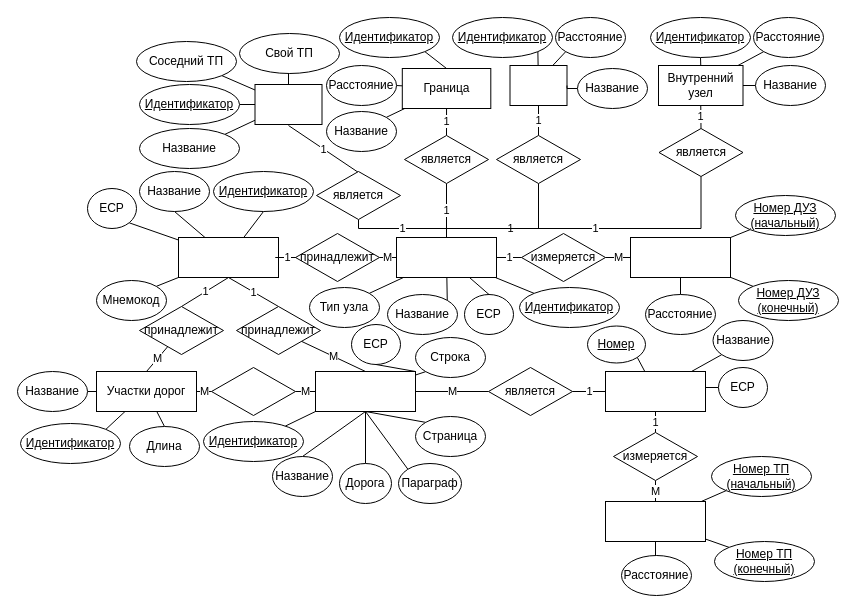
Some shapes in this 856 by 613 pixel diagram are drawn without their labels. The centre of each missing label's shape, as x and y in pixels:
"Вода" goes at (538,85).
"Дорожные узлы (ДУЗ)" goes at (446,257).
"Железные дороги" goes at (228,257).
"находится" goes at (253,391).
"Расстояние до ДУЗ" goes at (680,257).
"Расстояние до ТП" goes at (655,521).
"Станции и ОП" goes at (365,391).
"Стык" goes at (288,104).
"Транзитные пункты (ТП)" goes at (655,391).
